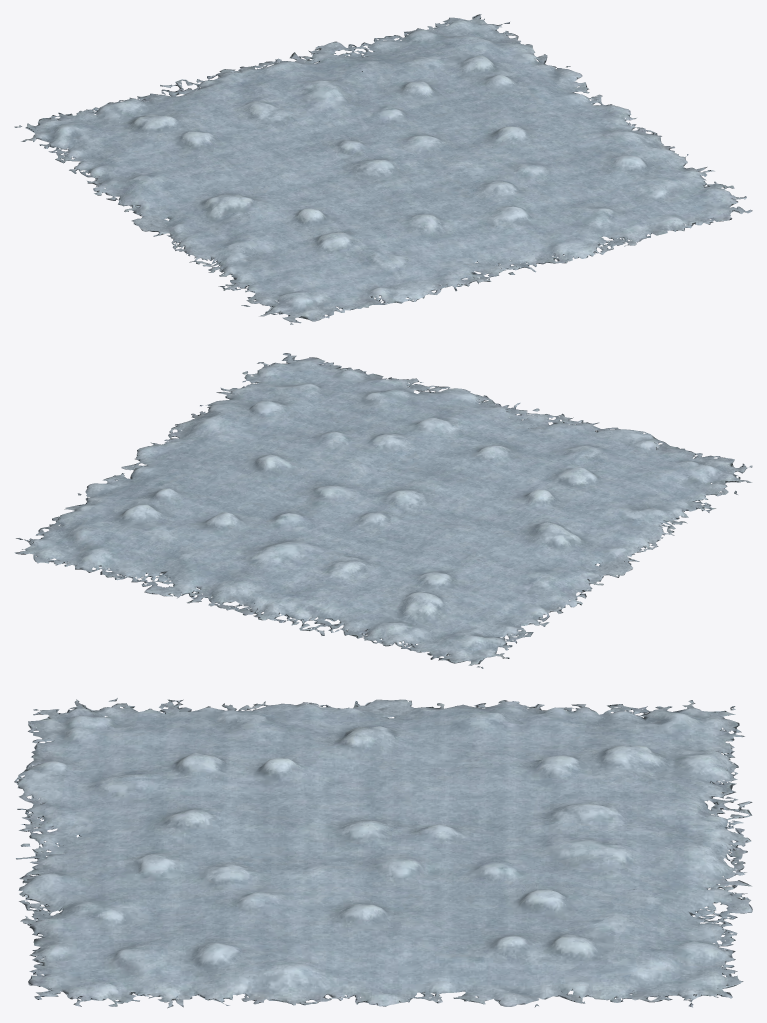
The model's file is snow-ground-4.glb.
3 renders of one model, top to bottom at view 1: azimuth 30°, elevation 25°; view 2: azimuth 150°, elevation 25°; view 3: azimuth 270°, elevation 25°, orthographic. The views are drawn at different scales.
Visible parts, largest first — view 1: geometry_0; view 2: geometry_0; view 3: geometry_0.
Part boxes in pixels (box(x1,y1,x2,y2)): geometry_0: box(14, 14, 752, 324); geometry_0: box(14, 353, 752, 668); geometry_0: box(14, 698, 752, 1008).
Bounding box in the file's own units: 0.9914 × 0.0343 × 0.9954.
Materials: 1 (1 with a texture image).
